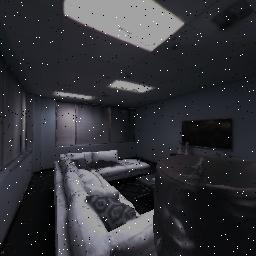sofa: (49, 144, 164, 256)
